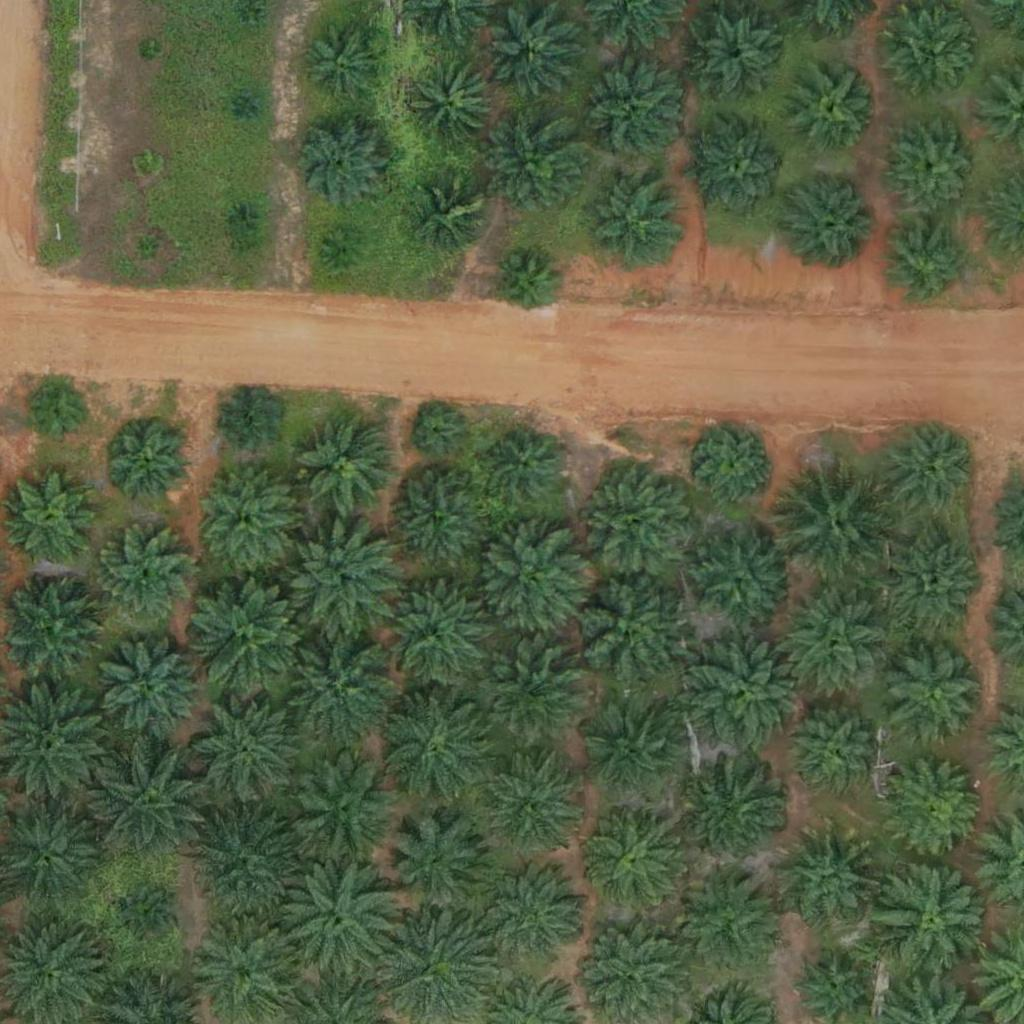Kelapa_Sawit: (87, 742, 212, 868), (188, 573, 313, 699), (184, 802, 309, 928), (271, 622, 396, 748), (281, 853, 406, 979), (376, 684, 501, 810), (576, 457, 701, 583), (564, 568, 689, 694), (684, 632, 809, 758), (775, 458, 900, 584), (771, 581, 896, 707), (873, 857, 998, 983), (372, 576, 497, 701), (285, 522, 398, 635), (286, 754, 399, 867), (381, 810, 494, 923), (480, 864, 593, 977), (285, 107, 397, 220), (96, 634, 208, 747), (187, 691, 299, 804), (474, 525, 586, 638), (475, 637, 587, 750), (486, 116, 586, 217), (580, 61, 680, 162), (585, 171, 685, 272), (92, 527, 192, 628), (196, 468, 296, 569), (296, 416, 396, 517), (385, 470, 485, 571), (584, 704, 684, 805), (585, 805, 685, 906), (692, 760, 792, 861), (680, 865, 780, 966), (783, 828, 883, 929), (691, 120, 791, 220), (783, 171, 883, 271), (885, 117, 985, 217), (690, 529, 790, 629), (880, 421, 980, 521), (884, 537, 984, 637), (884, 644, 984, 744), (886, 761, 986, 861), (303, 18, 391, 107), (688, 12, 776, 100), (409, 62, 497, 150), (7, 472, 95, 560), (106, 421, 194, 509), (487, 760, 575, 848), (888, 13, 975, 101), (489, 14, 576, 102), (791, 63, 878, 151), (885, 220, 972, 308), (792, 711, 879, 799), (697, 426, 772, 502), (416, 180, 491, 255), (488, 429, 563, 504), (495, 253, 558, 316), (117, 888, 180, 951), (218, 391, 281, 454), (28, 384, 90, 447), (413, 408, 463, 458), (325, 229, 363, 267), (235, 5, 260, 30), (137, 40, 162, 65), (133, 152, 158, 177), (136, 236, 161, 261), (236, 94, 261, 119), (229, 204, 254, 229)
